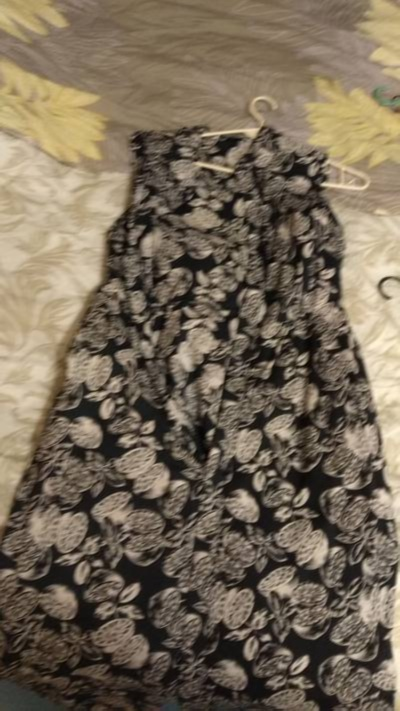Dress: (5, 109, 396, 705)
